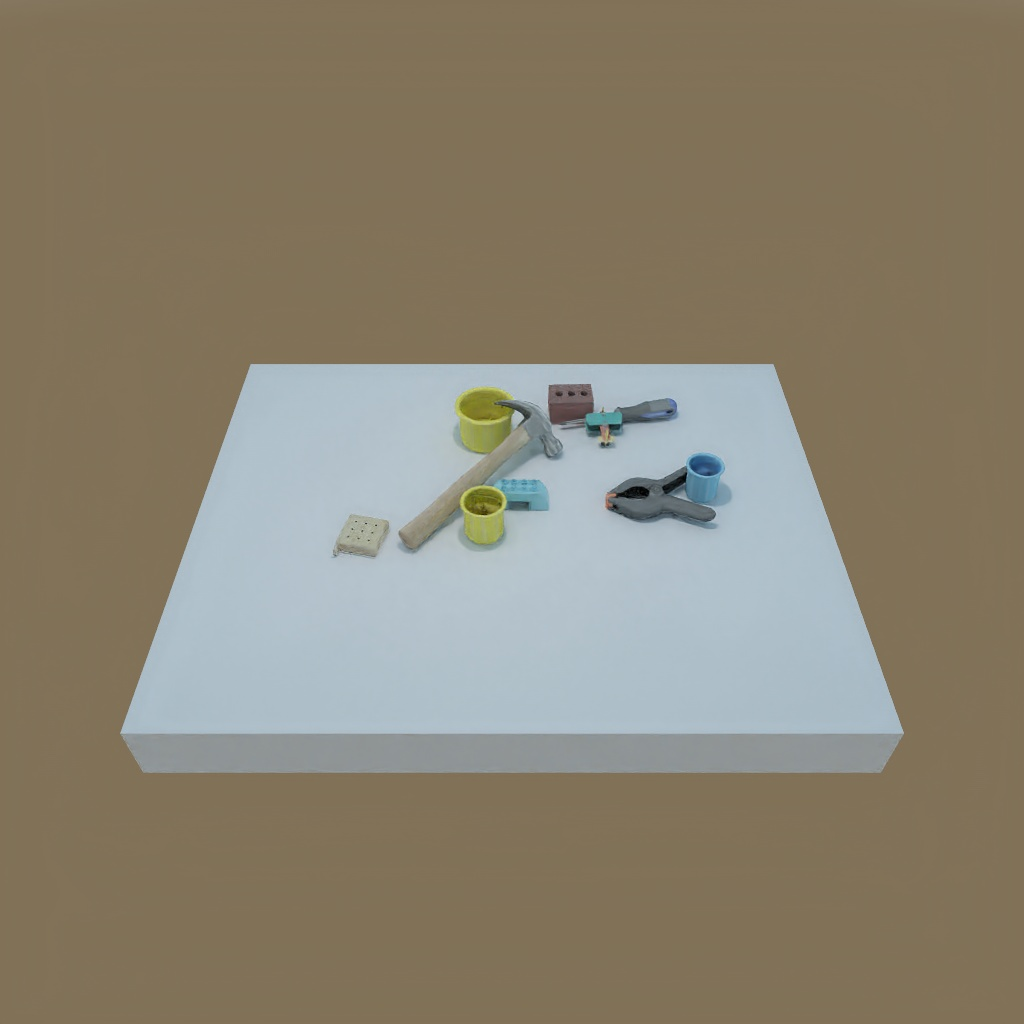hammer: (400, 399, 559, 548)
nine_hole_peg_test: (328, 504, 390, 571)
